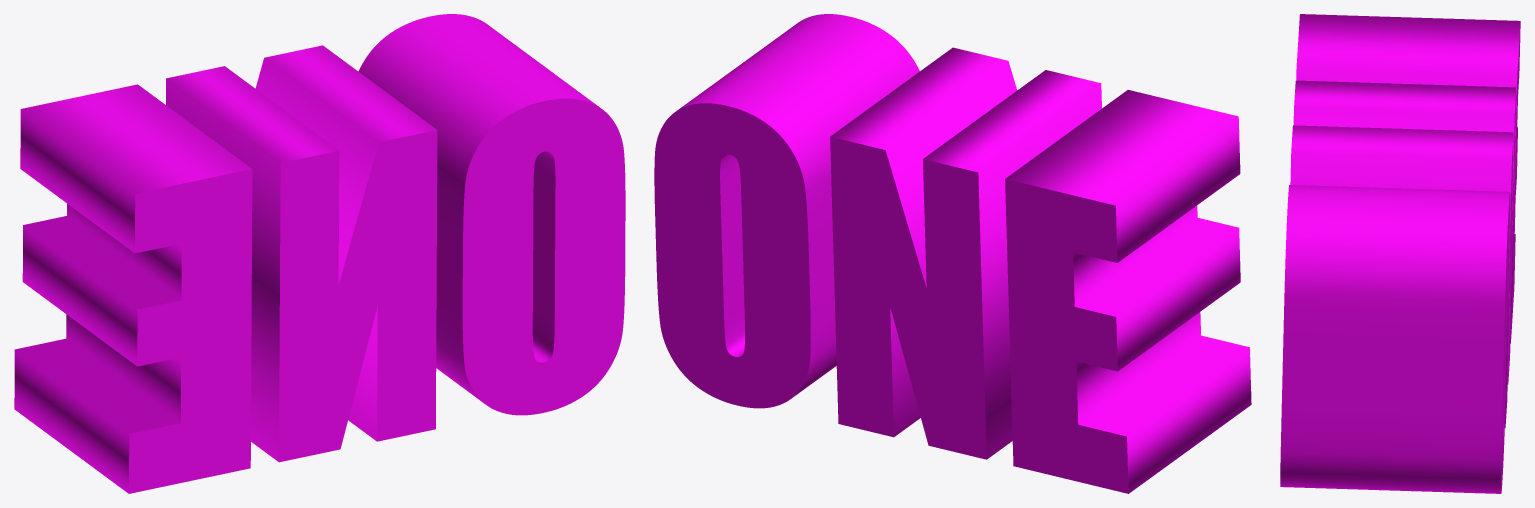
Rendered from 2_One.glb.
3 renders of one model, left to right at view 1: azimuth 30°, elevation 25°; view 2: azimuth 150°, elevation 25°; view 3: azimuth 270°, elevation 25°, orthographic. The views are drawn at different scales.
Parts seen in each view (by area): view 1: 1; view 2: 1; view 3: 1.
Boxes of the visible parts, box(x1,y1,x2,y2) form: 1: box(14, 14, 625, 493); 1: box(654, 14, 1251, 493); 1: box(1280, 14, 1520, 493).
Size of the model in its own units: 0.81 by 0.4891 by 0.3696.
